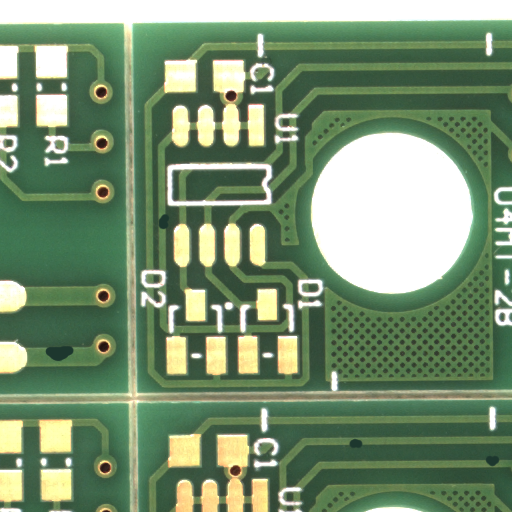Mouse_bite: (60, 353, 91, 368), (163, 221, 175, 235), (492, 460, 506, 471), (355, 443, 369, 453)
